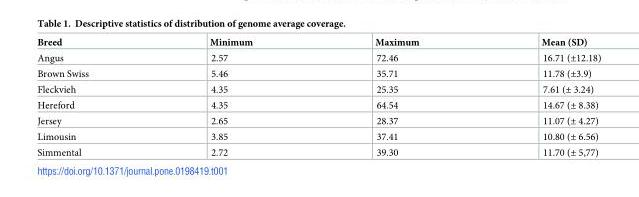table: (36, 36, 600, 158)
table column: (313, 36, 479, 158), (148, 36, 313, 158), (479, 36, 600, 158), (36, 36, 148, 158)
table column header: (36, 36, 600, 48)
table row: (36, 48, 600, 65), (36, 65, 600, 81), (36, 96, 600, 112), (36, 112, 600, 128), (36, 128, 600, 144), (36, 81, 600, 96), (36, 144, 600, 158), (36, 36, 600, 48)
